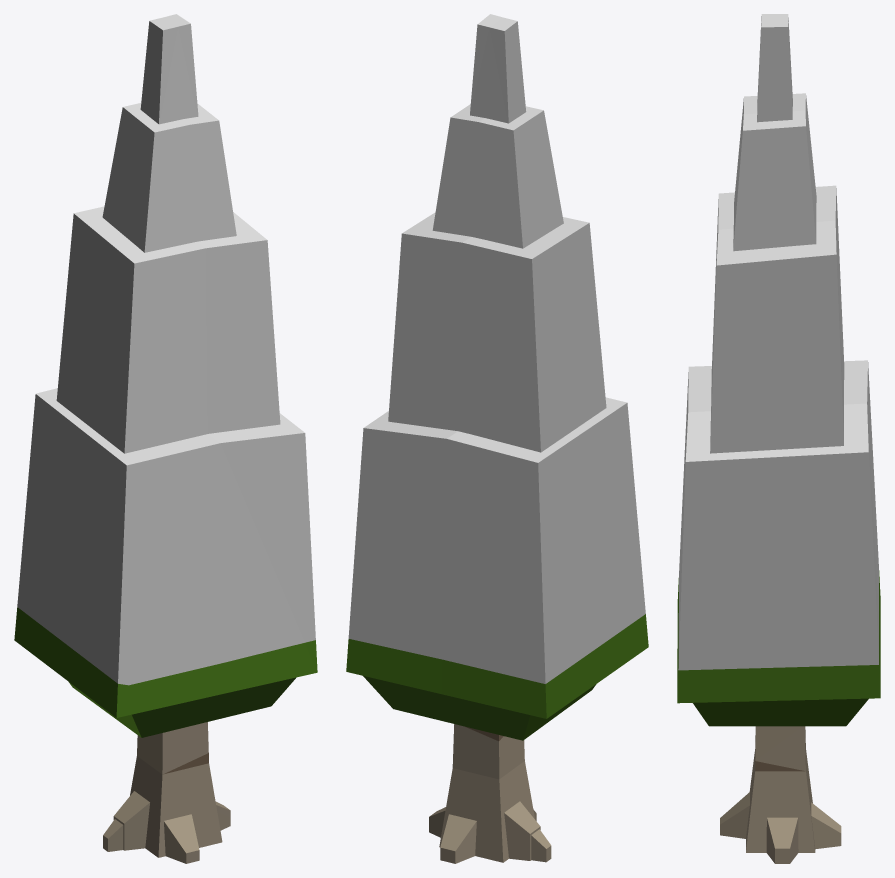
Rendered from SF_Env_Tree_Snow_03.fbx.
3 renders of one model, left to right at view 1: azimuth 30°, elevation 25°; view 2: azimuth 150°, elevation 25°; view 3: azimuth 270°, elevation 25°, orthographic.
Visible parts, largest first — view 1: SF_Env_Tree_Snow_03; view 2: SF_Env_Tree_Snow_03; view 3: SF_Env_Tree_Snow_03.
Part boxes in pixels (x1,y1,x2,y2): SF_Env_Tree_Snow_03: (14,14,317,863); SF_Env_Tree_Snow_03: (346,14,648,863); SF_Env_Tree_Snow_03: (677,14,880,863).
Bounding box in the file's own units: 2.28 × 8.9 × 2.01.
